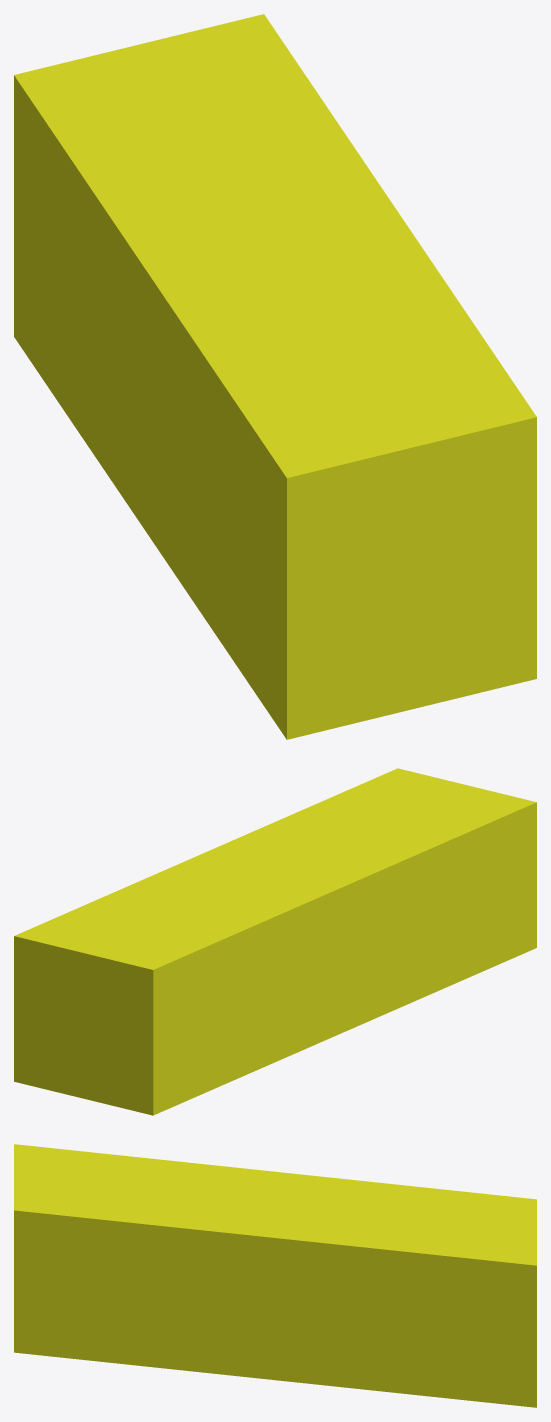
Rendered from onicocriptosis.gltf.
3 renders of one model, top to bottom at view 1: azimuth 30°, elevation 25°; view 2: azimuth 150°, elevation 25°; view 3: azimuth 270°, elevation 25°, orthographic. The views are drawn at different scales.
Visible parts, largest first — view 1: Cube; view 2: Cube; view 3: Cube.
Part boxes in pixels (x1,y1,x2,y2): Cube: (14,14,536,739); Cube: (14,768,536,1115); Cube: (14,1144,536,1407).
Bounding box in the file's own units: 1.1 × 0.6 × 2.
